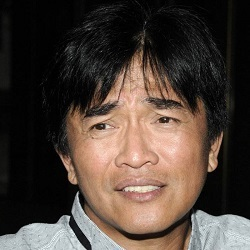unmask: (60, 90, 221, 238)
